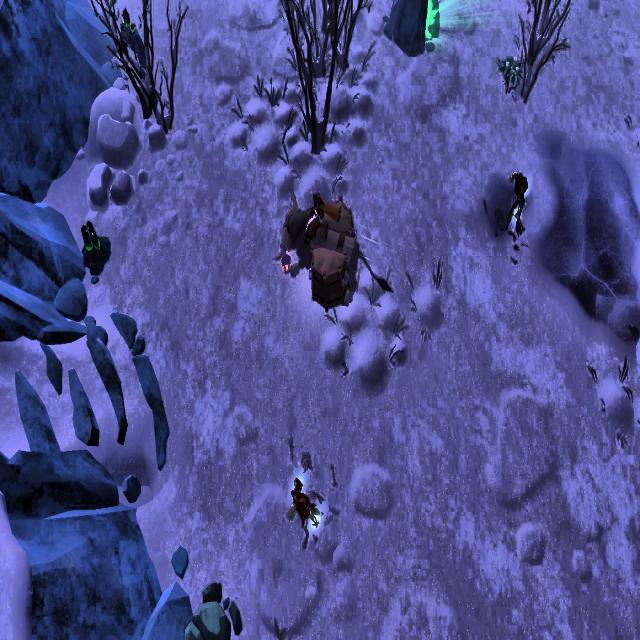enemy_factionUndead: (288, 469, 320, 546), (506, 164, 528, 239)
fiber_t3: (496, 52, 524, 96)
ore_t3: (77, 215, 101, 261)
